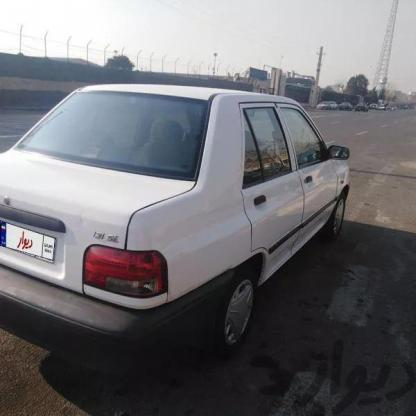Car: (0, 78, 357, 372), (301, 100, 339, 114), (338, 101, 360, 115)
